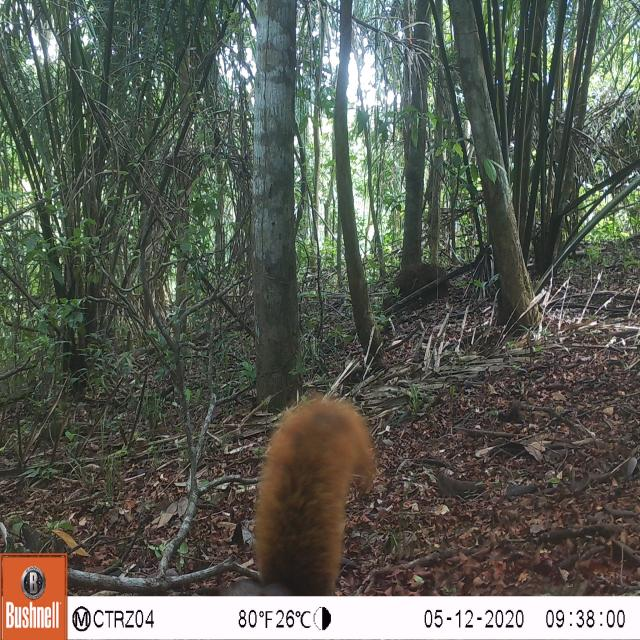Squirrel: (236, 390, 379, 594)
